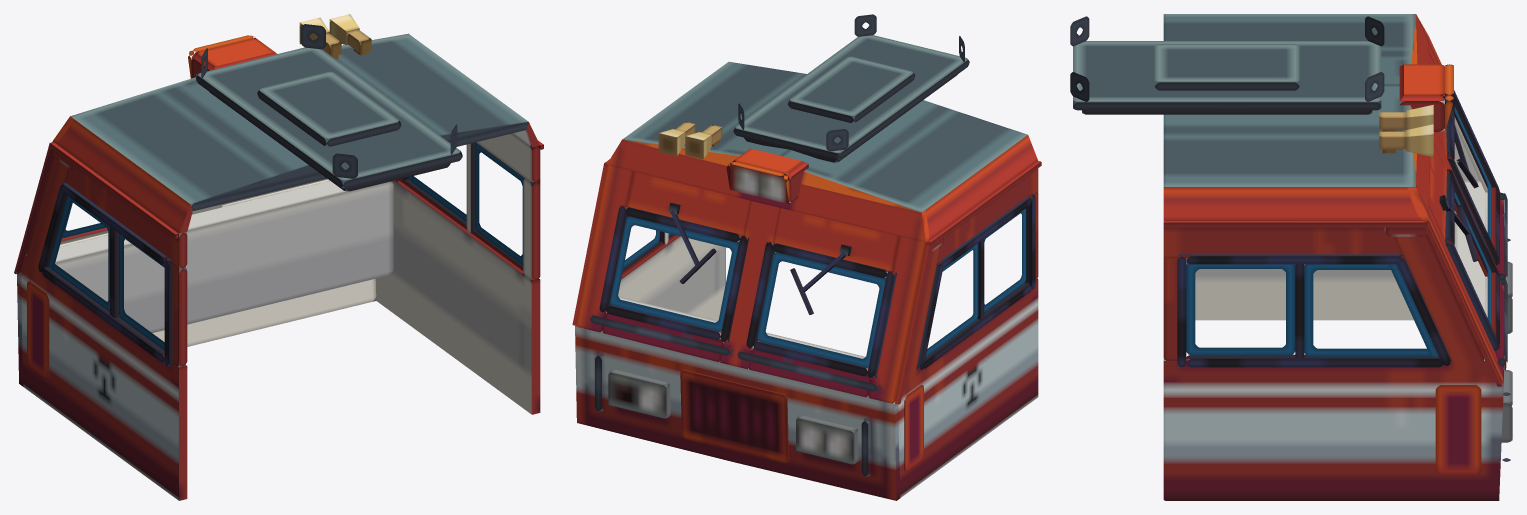
The model's file is gc220ii_head_1.obj.
3 views of the same model, side by side, from view 1: azimuth 30°, elevation 25°; view 2: azimuth 150°, elevation 25°; view 3: azimuth 270°, elevation 25° (orthographic). The views are drawn at different scales.
Visible parts, largest first — view 1: gc220ii_head_1; view 2: gc220ii_head_1; view 3: gc220ii_head_1.
Part boxes in pixels (box(x1,y1,x2,y2)): gc220ii_head_1: box(14, 14, 543, 500); gc220ii_head_1: box(572, 14, 1041, 500); gc220ii_head_1: box(1070, 14, 1512, 500).
Bounding box in the file's own units: 3.07 × 2.75 × 3.05.
